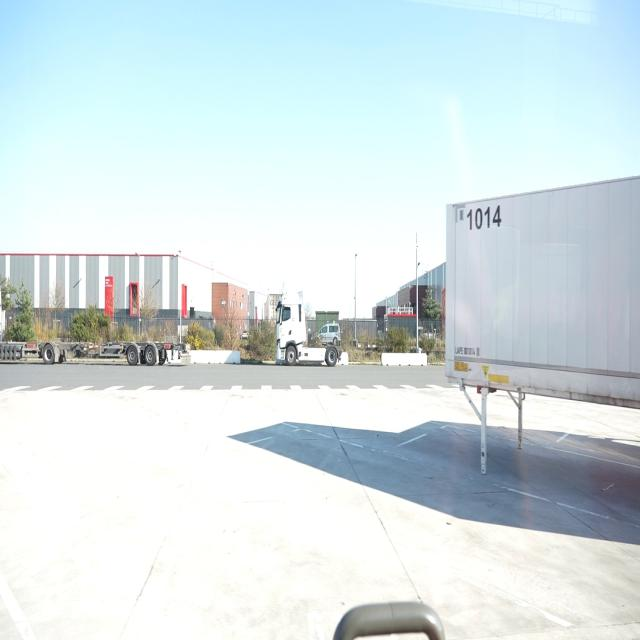Code: (464, 199, 506, 235)
